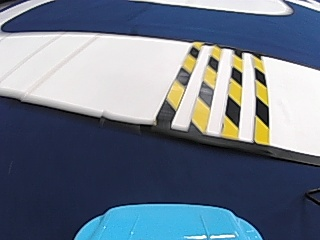bump: (156, 42, 270, 140)
